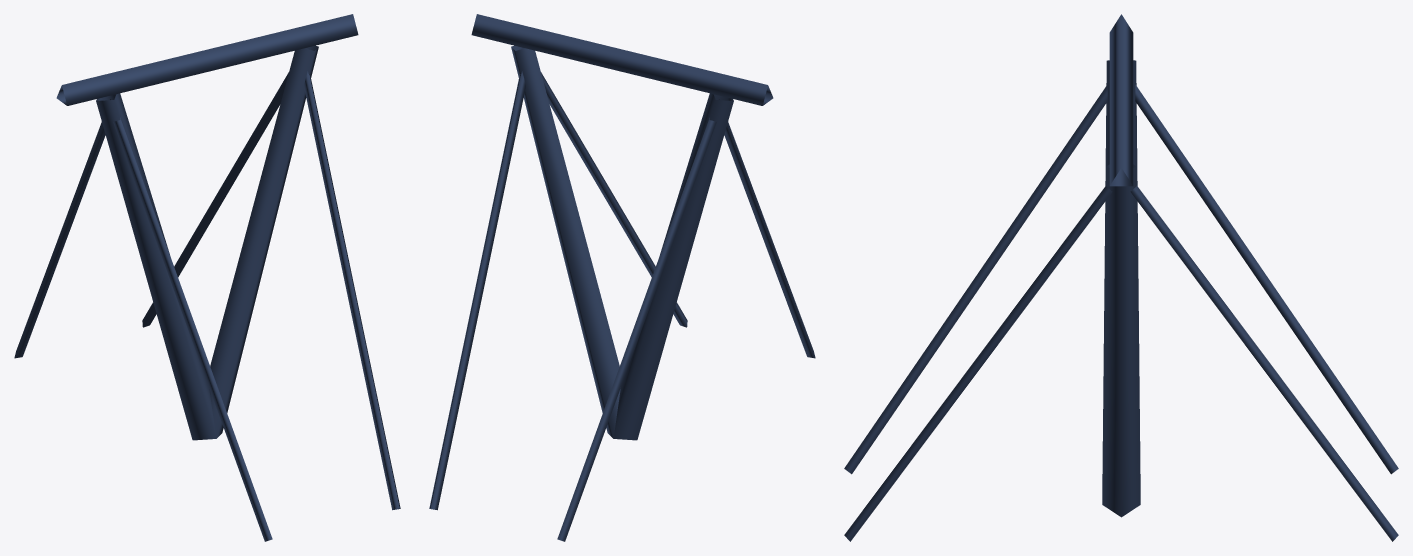
The model's file is torre-ehv-lod.glb.
3 renders of one model, left to right at view 1: azimuth 30°, elevation 25°; view 2: azimuth 150°, elevation 25°; view 3: azimuth 270°, elevation 25°, orthographic. The views are drawn at different scales.
Visible parts, largest first — view 1: torre-ehv-lod; view 2: torre-ehv-lod; view 3: torre-ehv-lod.
Part boxes in pixels (left/top/right/bottom): torre-ehv-lod: left=14, top=14, right=400, bottom=541; torre-ehv-lod: left=429, top=14, right=815, bottom=541; torre-ehv-lod: left=844, top=14, right=1398, bottom=541.
Size of the model in its own units: 32 by 40.67 by 48.83.
